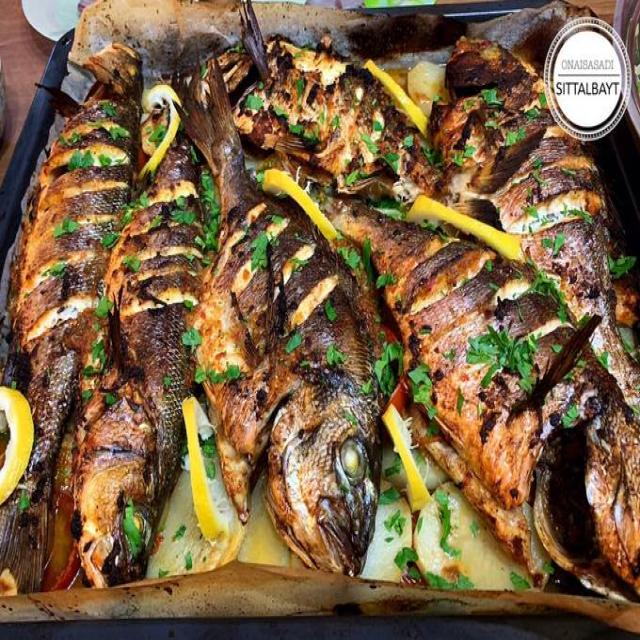Peixe: (3, 5, 636, 607), (170, 46, 386, 579), (3, 39, 145, 588), (69, 82, 211, 590)
